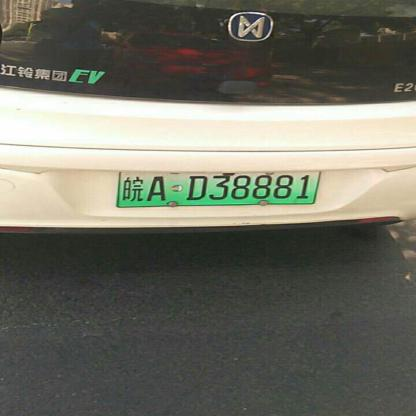lp: (117, 170, 321, 205)
